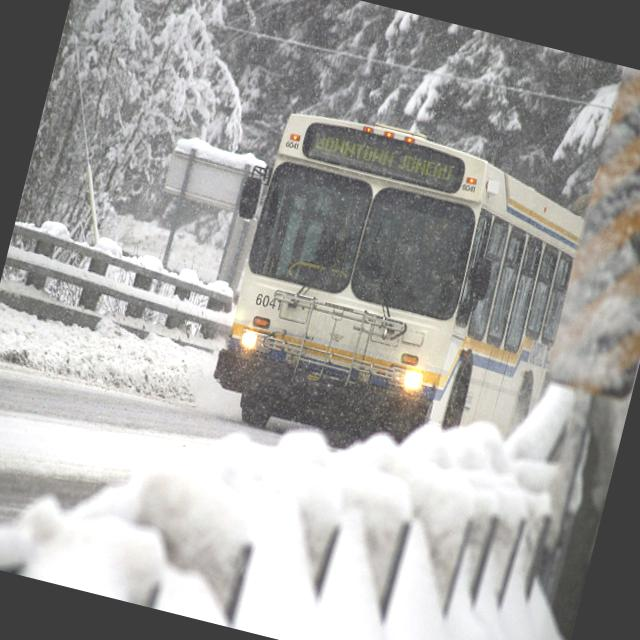Vehicle: (186, 98, 612, 502)
